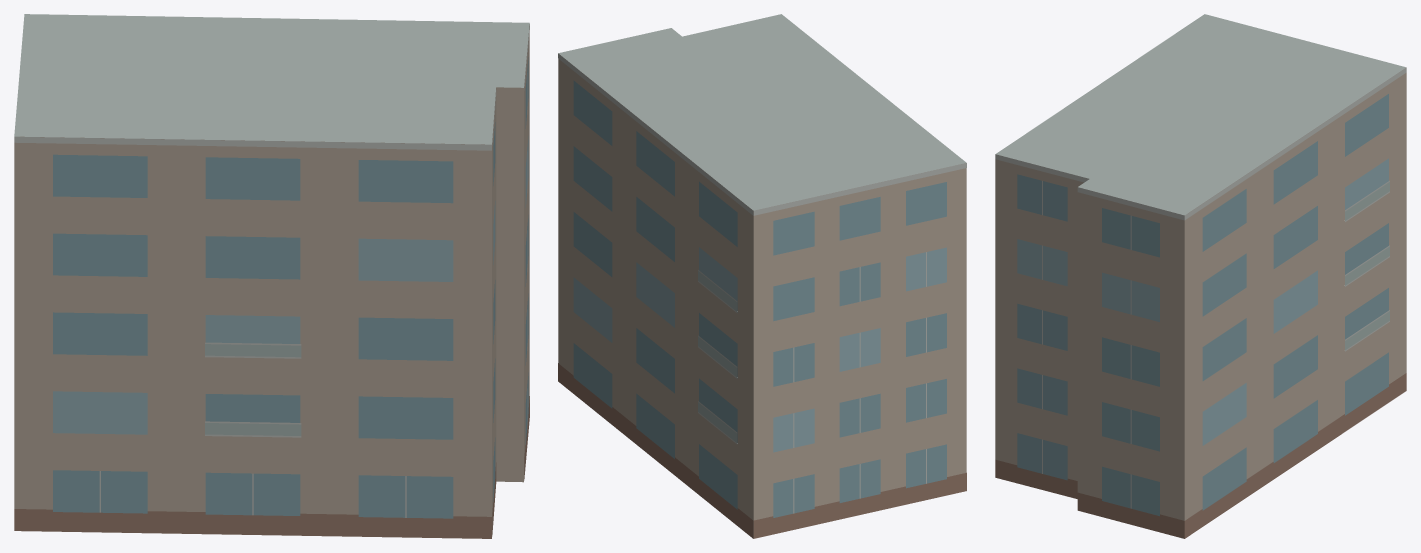
The model's file is survey-upis-32924529.glb.
3 views of the same model, side by side, from view 1: azimuth 30°, elevation 25°; view 2: azimuth 150°, elevation 25°; view 3: azimuth 270°, elevation 25° (orthographic). The views are drawn at different scales.
Parts seen in each view (by area): view 1: survey-upis-32924529.tmp; view 2: survey-upis-32924529.tmp; view 3: survey-upis-32924529.tmp.
Boxes of the visible parts, left/top/right/bottom form: survey-upis-32924529.tmp: left=14, top=14, right=529, bottom=538; survey-upis-32924529.tmp: left=558, top=14, right=966, bottom=538; survey-upis-32924529.tmp: left=995, top=14, right=1406, bottom=538.
Size of the model in its own units: 20.85 by 15.6 by 17.98.
